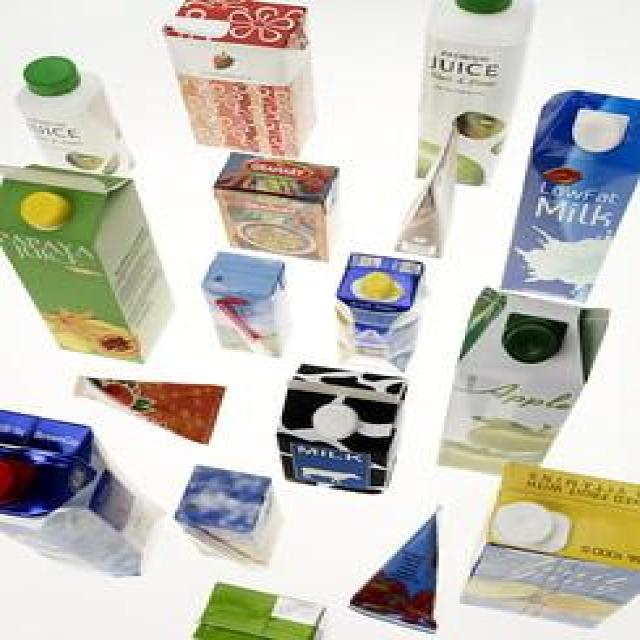drink carton: (0, 164, 179, 366), (436, 286, 614, 475), (496, 88, 640, 306), (460, 460, 640, 630), (0, 408, 167, 580), (162, 0, 318, 157), (274, 362, 410, 497), (332, 252, 432, 376), (198, 248, 296, 356), (186, 582, 329, 640)
plastic bottle cap: (494, 498, 556, 546), (499, 320, 562, 366), (24, 58, 80, 98), (18, 190, 74, 229), (572, 114, 624, 154), (314, 404, 361, 440), (361, 270, 392, 302), (0, 454, 21, 499), (452, 0, 513, 13)
